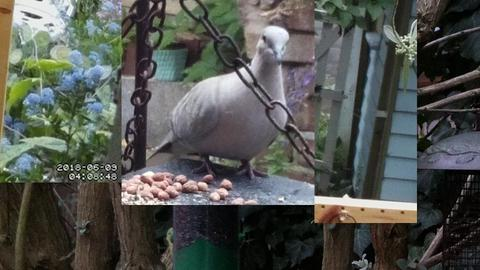collared dove: (146, 25, 290, 180)
